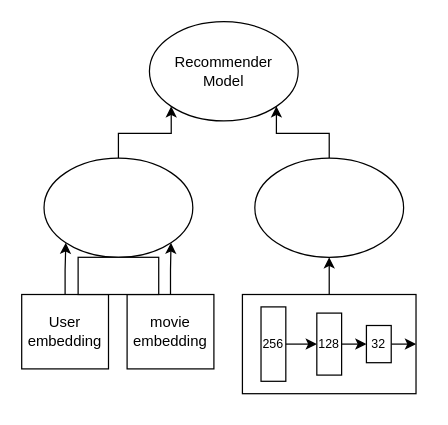
Image size: 448x425. Some labels were removed from this diagram. The shapes that lost their labels are listed below. From the top down, each one's box as (x1, y1, x2, y2) in pixels, then its label:
(43, 157, 193, 257): Retrieval Model (Two tower model)
(254, 157, 404, 257): Ranking Model (deep neural network)
(77, 256, 159, 294): Matrix factorization
